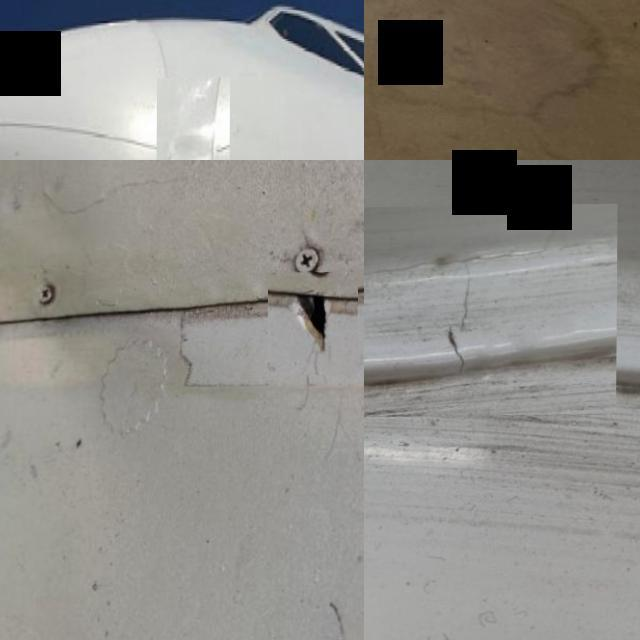Crack: (364, 205, 617, 418), (268, 273, 359, 377)
Dent: (157, 79, 224, 160)
